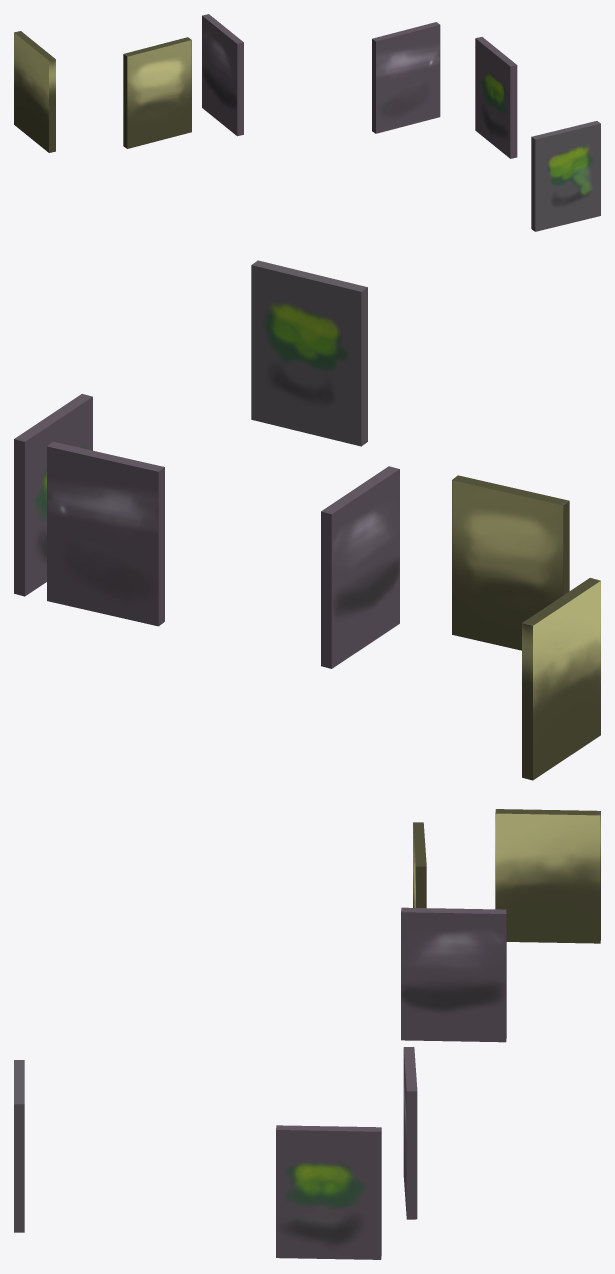
File: additional walls.fbx
3 views of the same model, one above another, from view 1: azimuth 30°, elevation 25°; view 2: azimuth 150°, elevation 25°; view 3: azimuth 270°, elevation 25° (orthographic). The views are drawn at different scales.
Parts seen in each view (by area): view 1: Cube, Cube.003, Cube.004, Cube.001, Cube.002, Cube.005; view 2: Cube.003, Cube, Cube.004, Cube.002, Cube.005, Cube.001; view 3: Cube.001, Cube.002, Cube.005, Cube.003, Cube, Cube.004.
Boxes of the visible parts, bbox=[...] form: Cube: bbox=[531, 121, 600, 231]; Cube.003: bbox=[372, 22, 440, 133]; Cube.004: bbox=[123, 37, 191, 148]; Cube.001: bbox=[475, 37, 517, 158]; Cube.002: bbox=[202, 14, 243, 136]; Cube.005: bbox=[14, 31, 55, 152]; Cube.003: bbox=[47, 441, 164, 626]; Cube: bbox=[251, 260, 367, 446]; Cube.004: bbox=[452, 475, 569, 650]; Cube.002: bbox=[321, 466, 399, 668]; Cube.005: bbox=[522, 578, 600, 780]; Cube.001: bbox=[14, 394, 92, 596]; Cube.001: bbox=[276, 1125, 381, 1259]; Cube.002: bbox=[401, 907, 506, 1042]; Cube.005: bbox=[495, 809, 600, 943]; Cube.003: bbox=[403, 1047, 417, 1219]; Cube: bbox=[14, 1060, 24, 1232]; Cube.004: bbox=[413, 822, 426, 907].
Size of the model in its own units: 7468 by 2689 by 6979.
